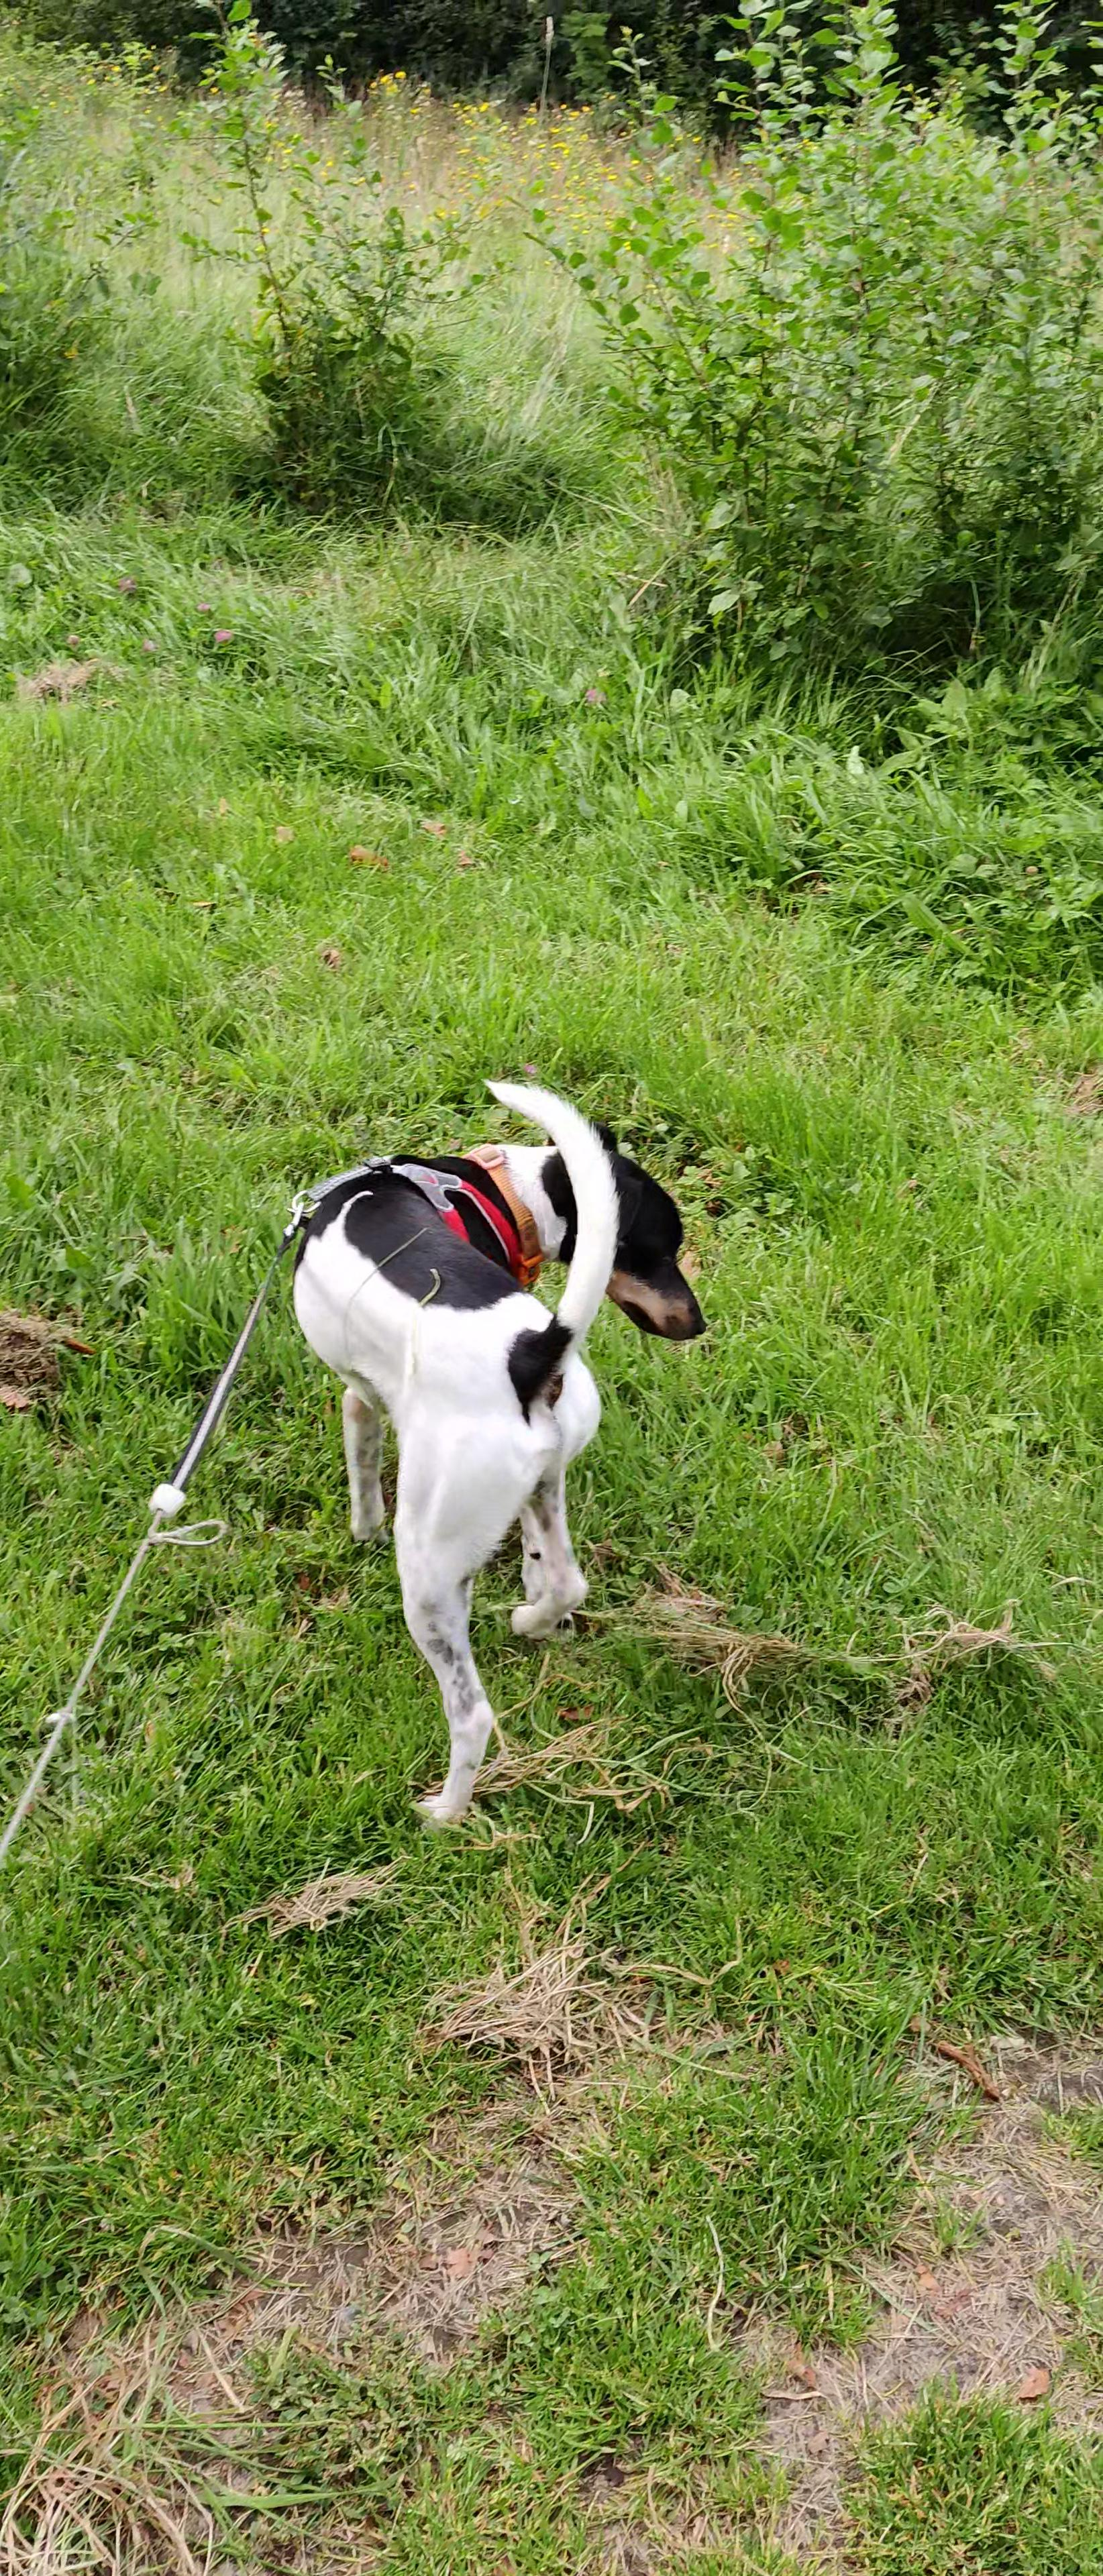Dog: (268, 1069, 727, 1832)
